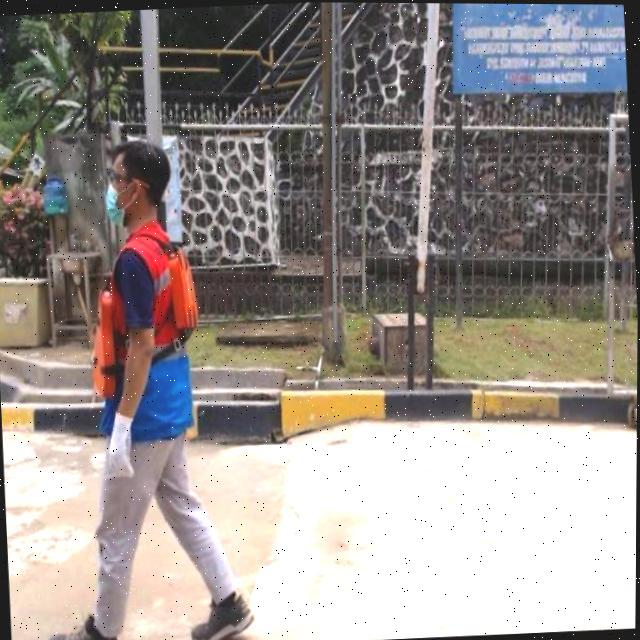goggles_on: (103, 167, 153, 194)
